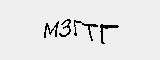Г: (99, 22, 121, 45), (70, 18, 84, 39)
З: (59, 17, 73, 39)
М: (42, 18, 59, 41)
Т: (78, 22, 99, 41)
